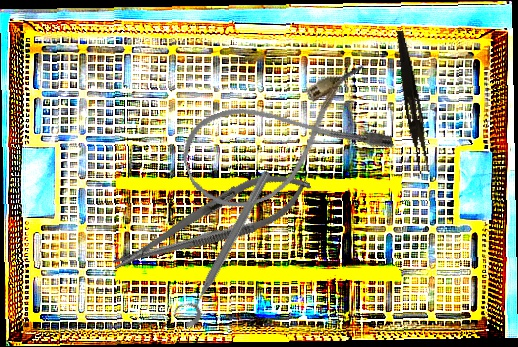Cannula: (172, 60, 397, 222)
Dressing Forceps: (389, 29, 435, 175)
Fixation Ring: (169, 163, 276, 331)
Needle Holder: (103, 157, 319, 288)
